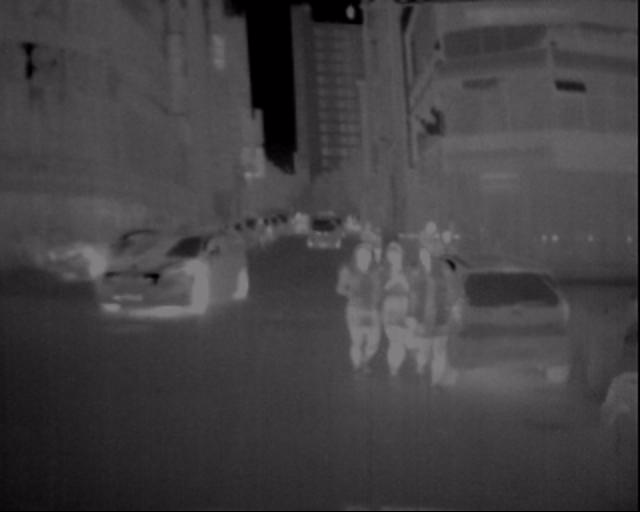person: (333, 221, 397, 394), (406, 224, 463, 401), (376, 223, 423, 394)
